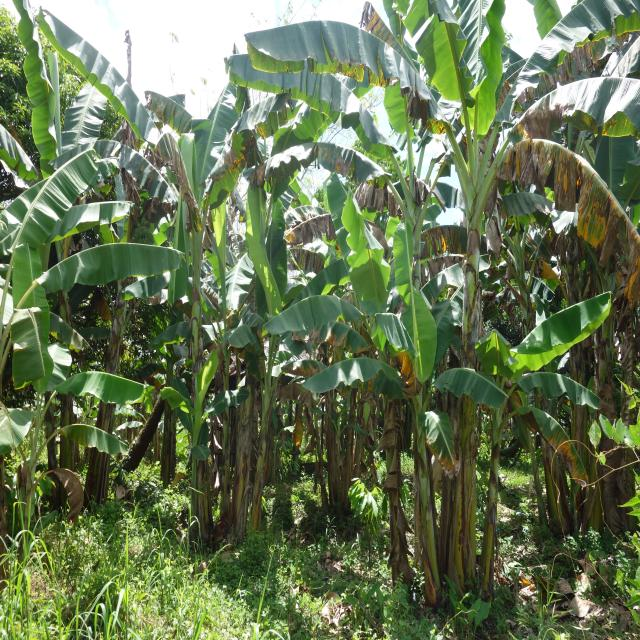Banana-plant: (440, 178, 498, 596), (246, 335, 285, 546), (409, 395, 433, 608)
